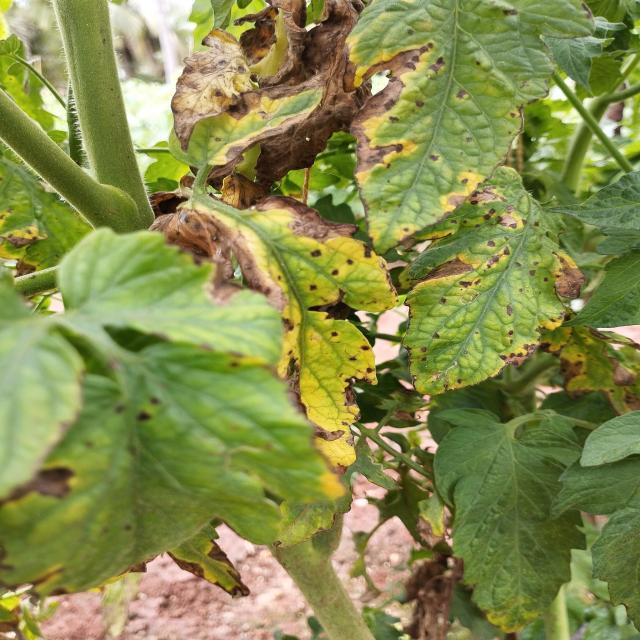Tomato mosaic virus leaf: (182, 195, 402, 480), (336, 1, 558, 261), (391, 166, 590, 402), (162, 0, 338, 184)
